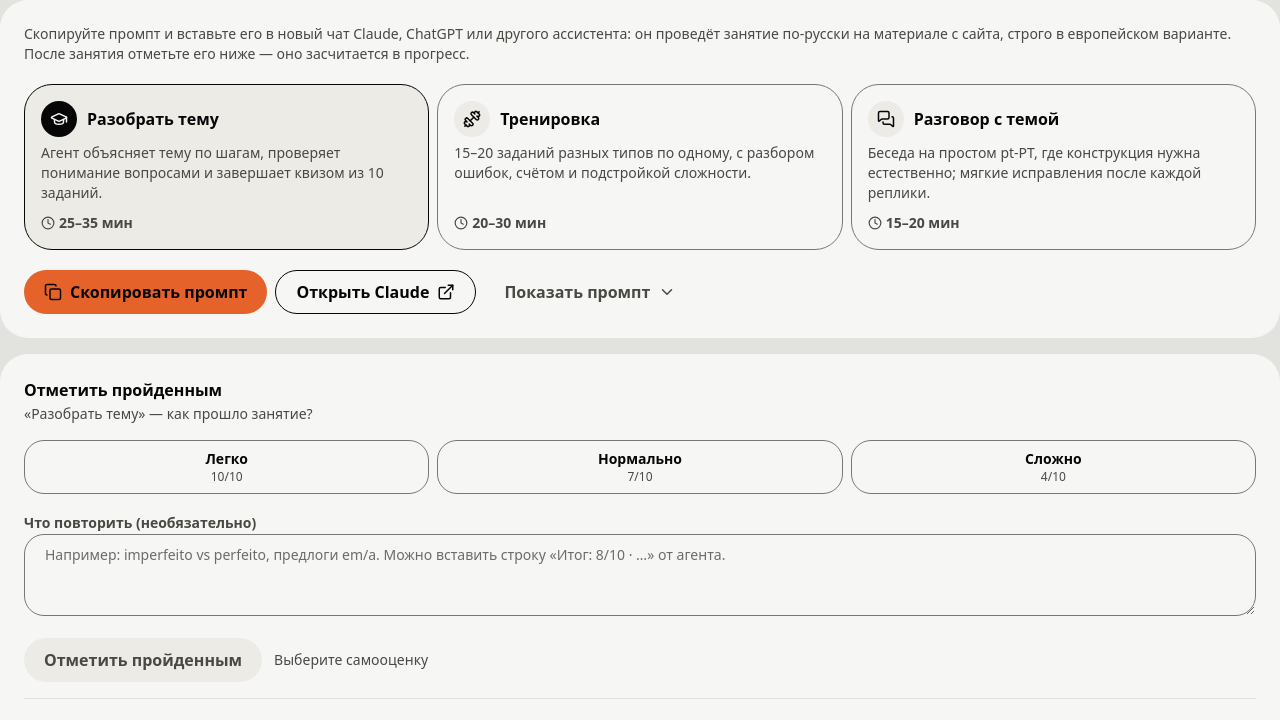
TutorPanel: «Отметить пройденным» › a failing save shows the error
Click the radio button labelled "Легко 10/10" at [227, 467], box [24,440,429,494]
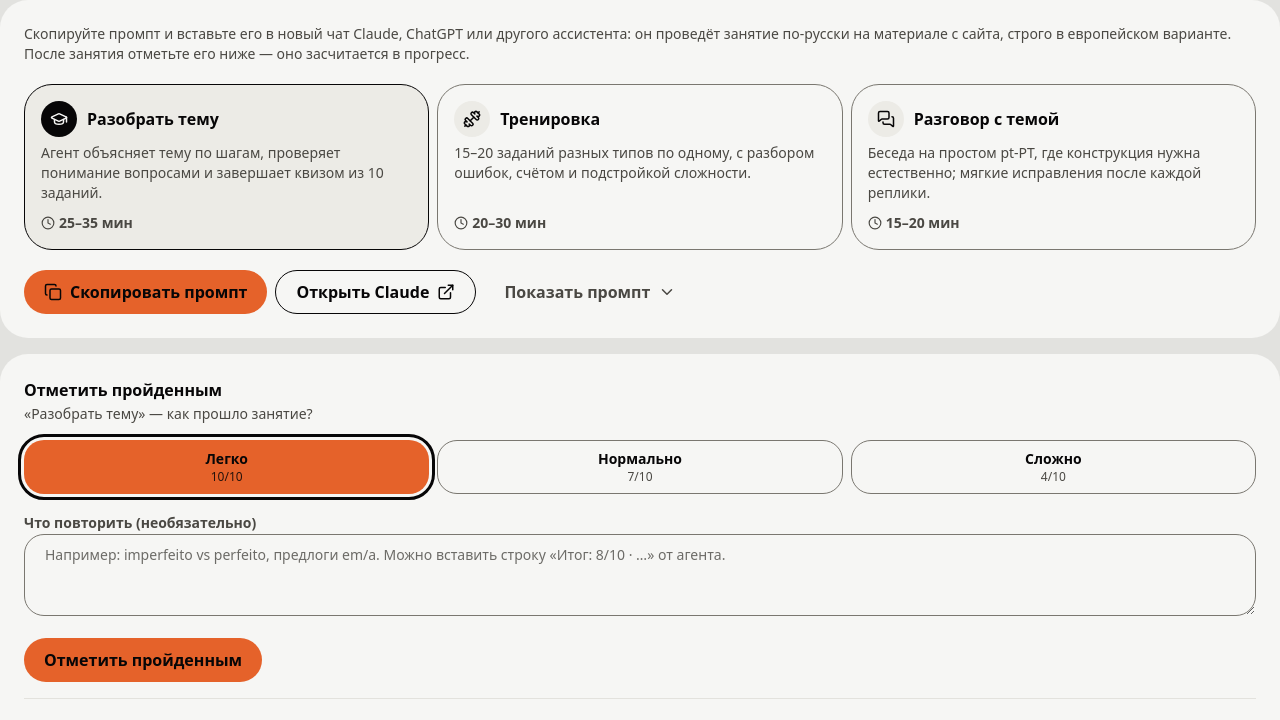
Click the button "Отметить пройденным" at [143, 660], box [24,638,262,682]
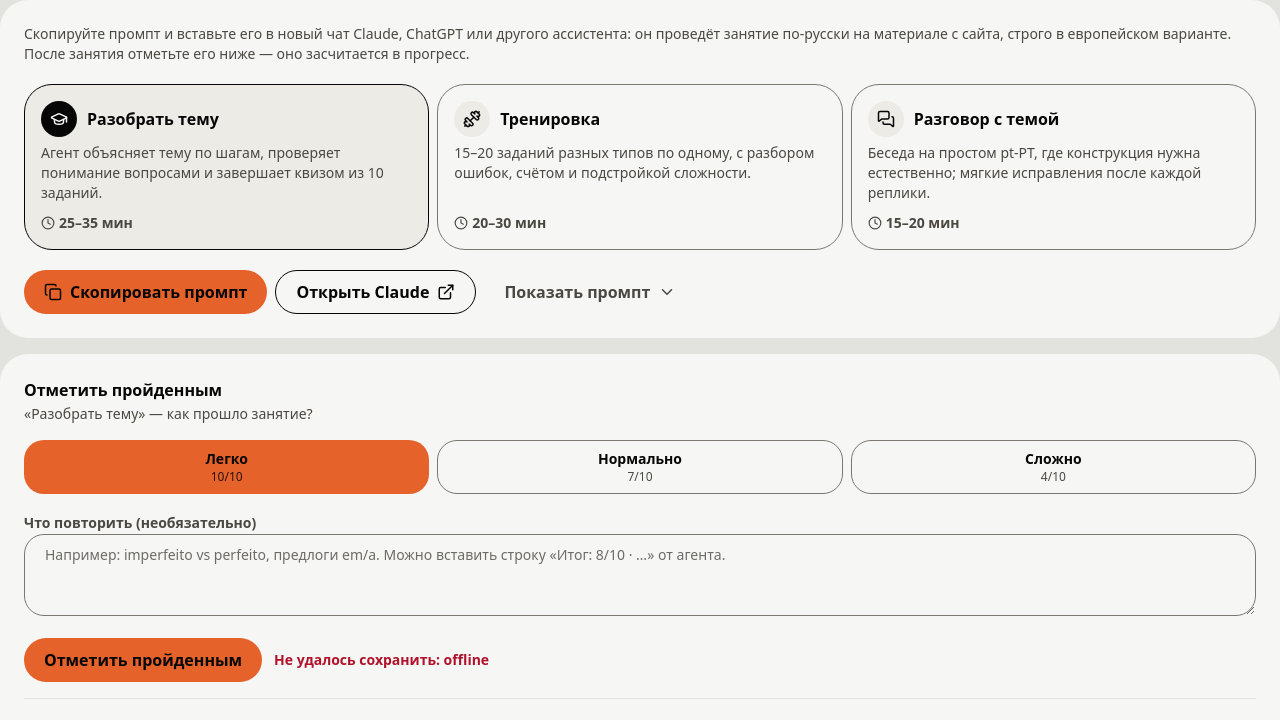
Result: the text "Не удалось сохранить: offline" is shown at [274,650,489,670]
